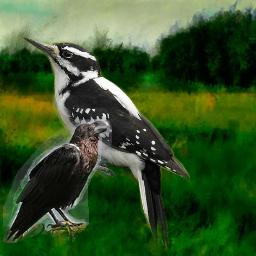Crow: (3, 119, 112, 243)
Woodpecker: (21, 30, 190, 251)
